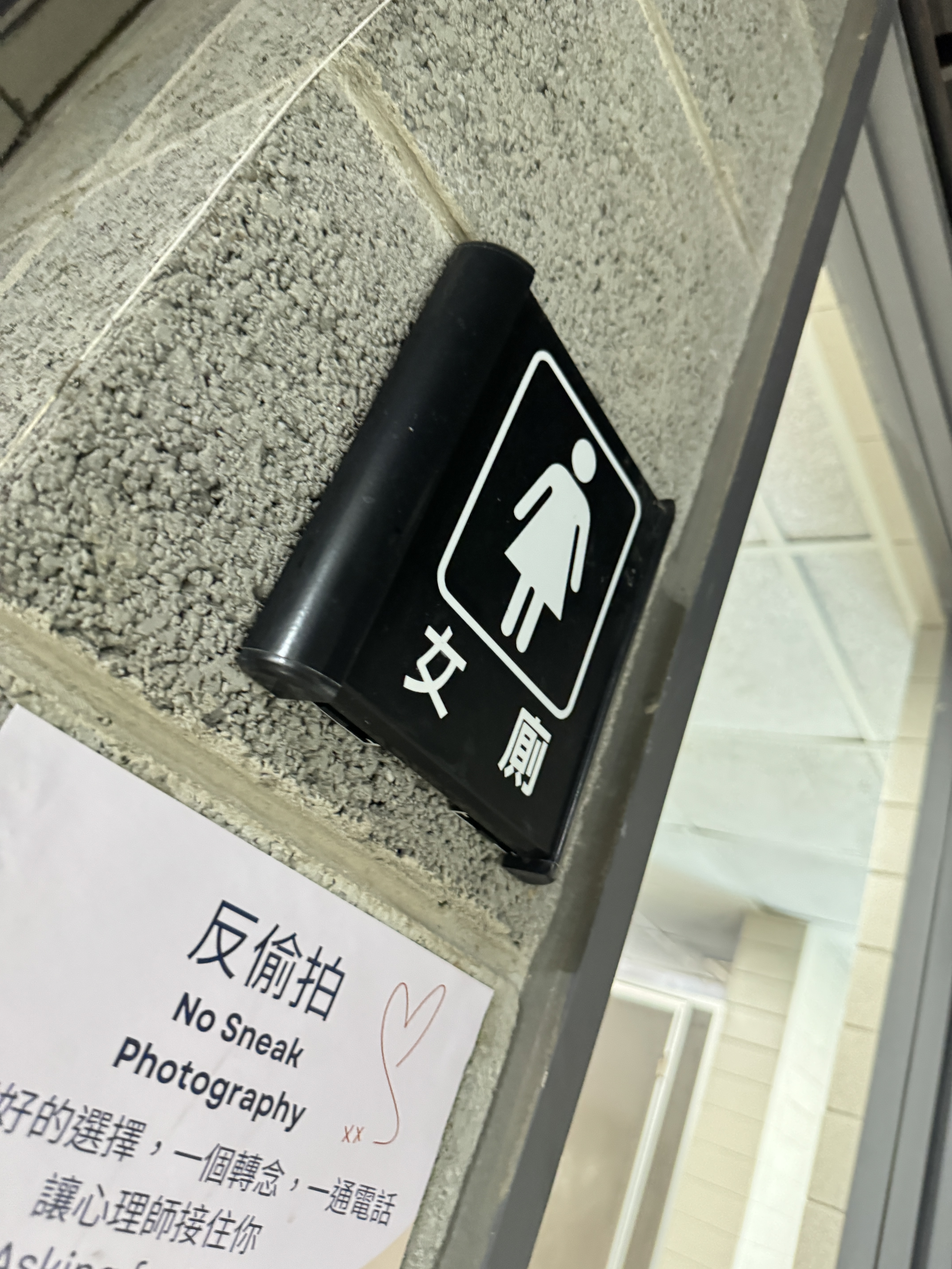toilet_sign: (231, 222, 673, 889), (282, 222, 658, 873)
